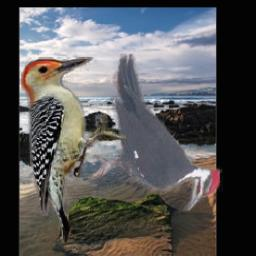Woodpecker: (91, 55, 223, 212), (21, 57, 127, 242)
